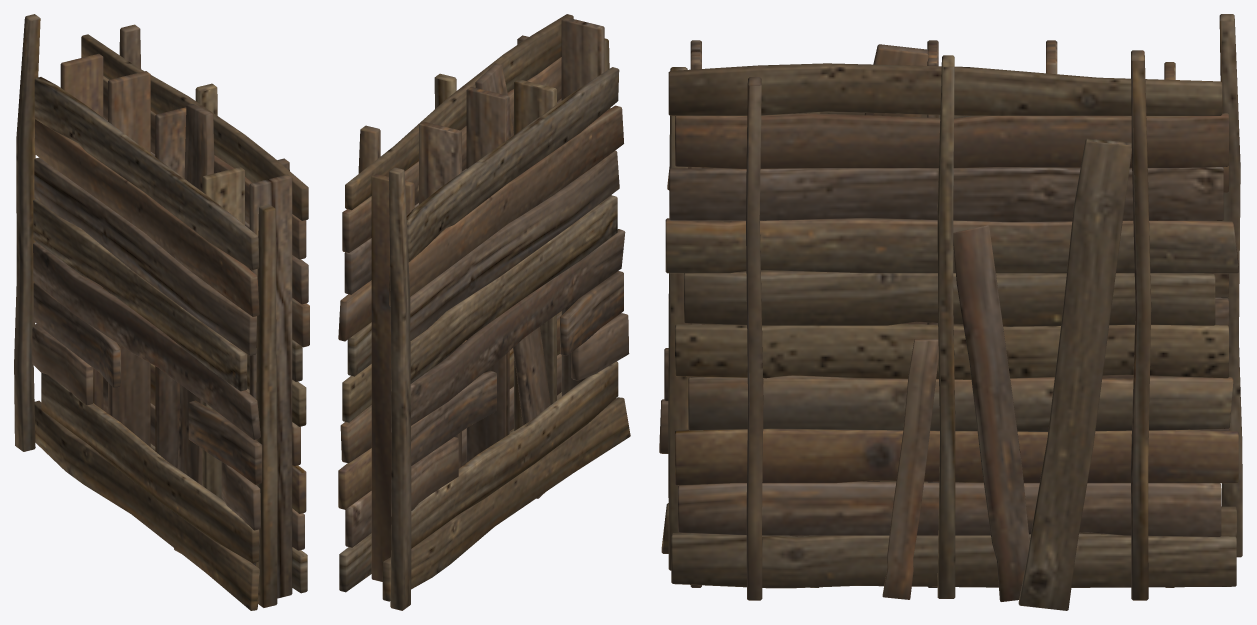
Rendered from MazeWall04.fbx.
The picture shows the model from 3 angles, left to right: view 1: azimuth 30°, elevation 25°; view 2: azimuth 150°, elevation 25°; view 3: azimuth 270°, elevation 25°; orthographic projection. The views are drawn at different scales.
Parts seen in each view (by area): view 1: SM_FAR_MazeWall_04.mo; view 2: SM_FAR_MazeWall_04.mo; view 3: SM_FAR_MazeWall_04.mo.
Part boxes in pixels (x1,y1,x2,y2): SM_FAR_MazeWall_04.mo: (14, 14, 309, 610); SM_FAR_MazeWall_04.mo: (338, 14, 630, 610); SM_FAR_MazeWall_04.mo: (659, 14, 1242, 610).
Bounding box in the file's own units: 75.62 × 333 × 323.
